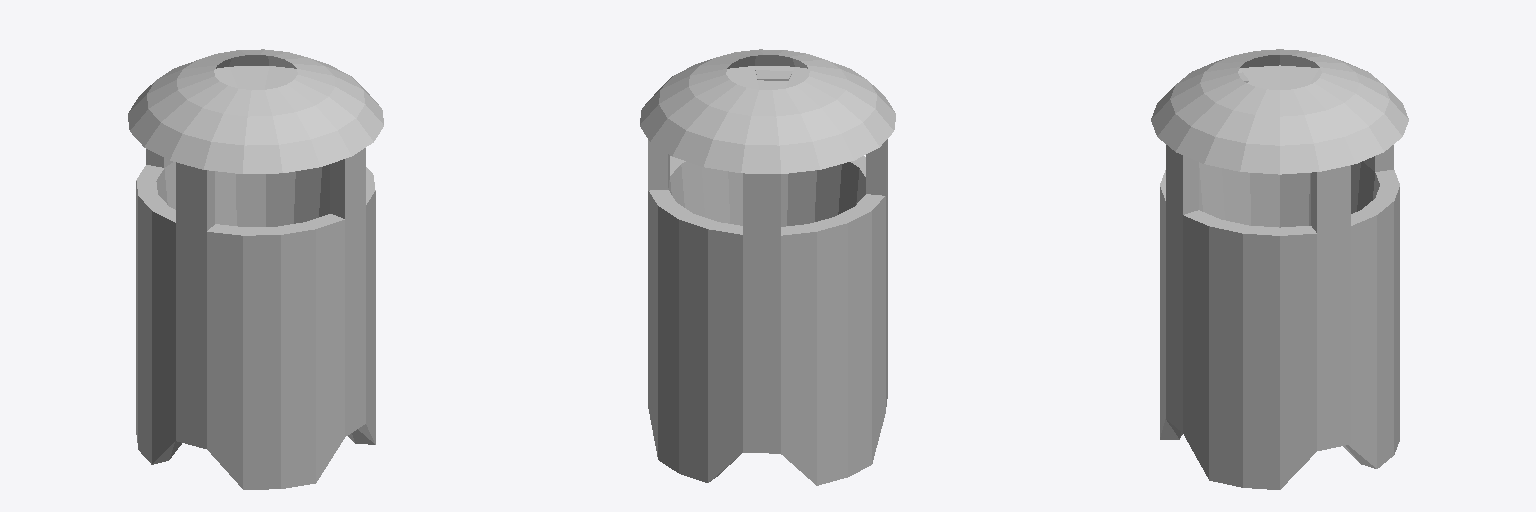
Rendered from solarCauldron.obj.
3 views of the same model, side by side, from view 1: azimuth 30°, elevation 25°; view 2: azimuth 150°, elevation 25°; view 3: azimuth 270°, elevation 25° (orthographic).
Parts seen in each view (by area): view 1: pCylinder1, pCylinder2; view 2: pCylinder1, pCylinder2; view 3: pCylinder1, pCylinder2.
Boxes of the visible parts, x1=… form: pCylinder1: x1=136, y1=148, x2=375, y2=489; pCylinder2: x1=128, y1=49, x2=383, y2=173; pCylinder1: x1=648, y1=70, x2=887, y2=485; pCylinder2: x1=640, y1=49, x2=895, y2=173; pCylinder1: x1=1160, y1=72, x2=1399, y2=489; pCylinder2: x1=1151, y1=49, x2=1408, y2=174.
Bounding box in the file's own units: 3.22 × 5.05 × 3.22.